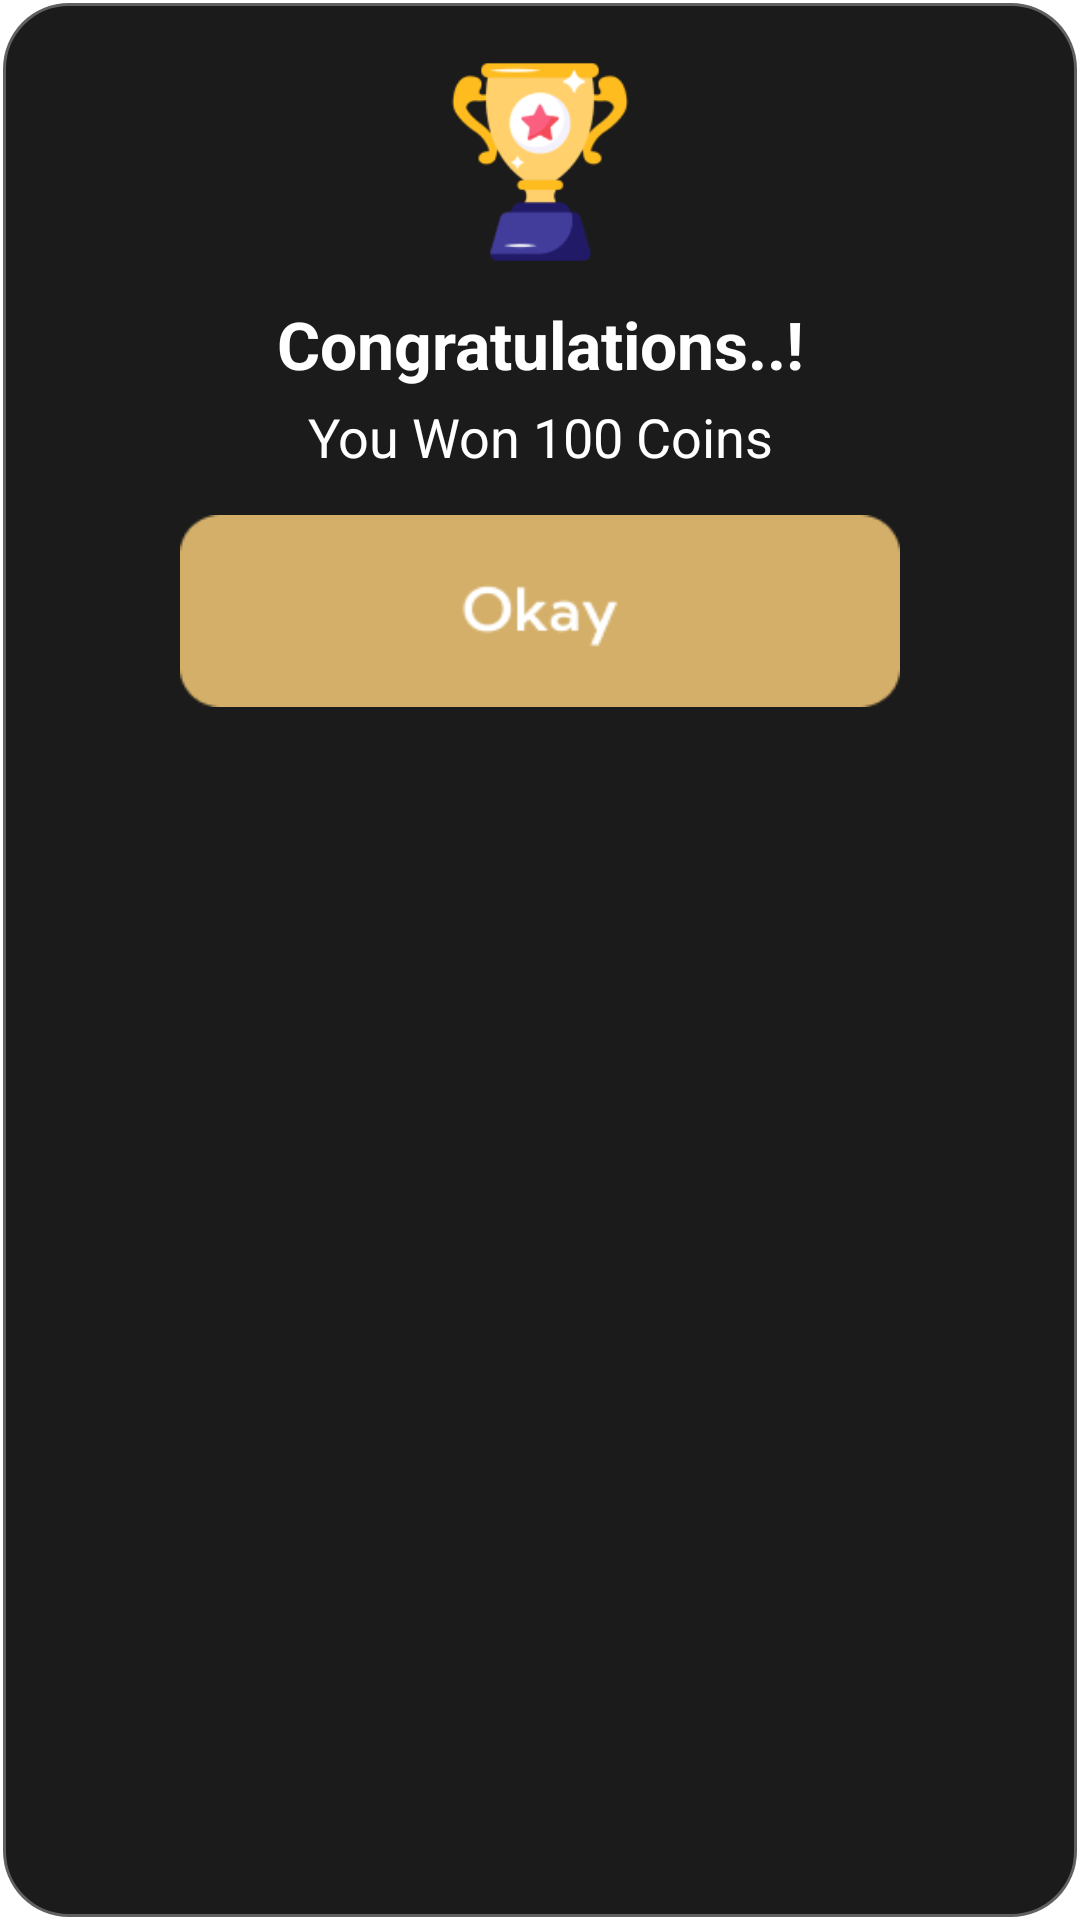

Icons on this 1080px x 1920px Android screen, each with its box as (x1, y1, x2, y2):
win: (452, 63, 628, 261)
